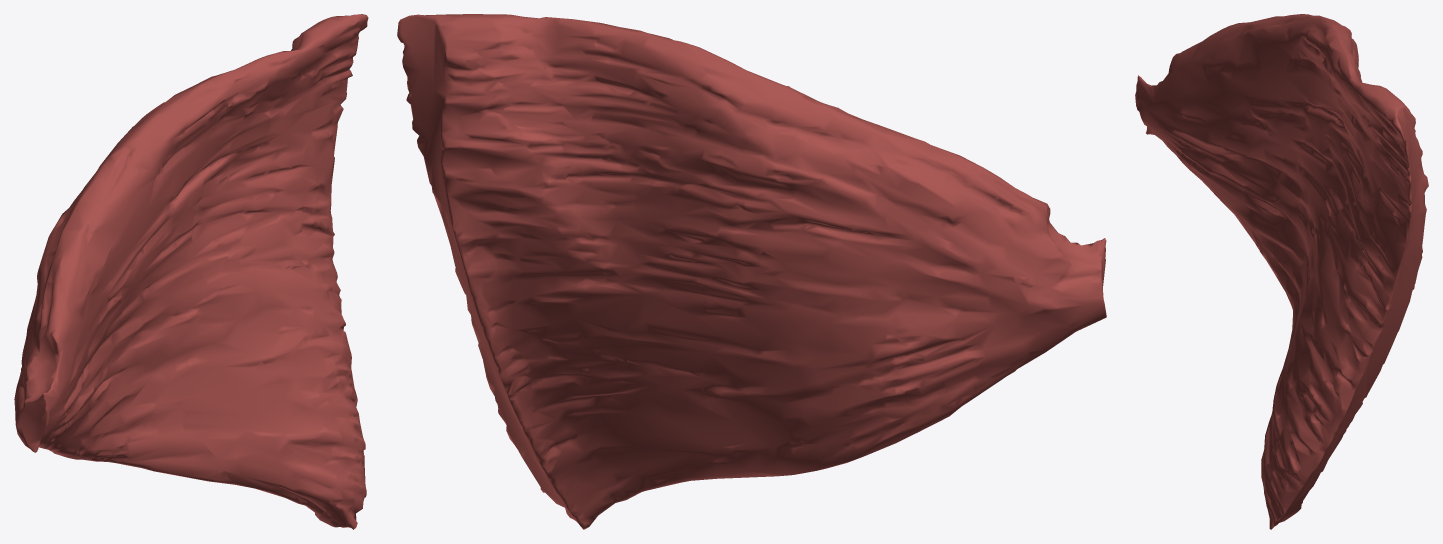
The model's file is FMA46123.glb.
3 views of the same model, side by side, from view 1: azimuth 30°, elevation 25°; view 2: azimuth 150°, elevation 25°; view 3: azimuth 270°, elevation 25° (orthographic). The views are drawn at different scales.
Visible parts, largest first — view 1: FMA46123; view 2: FMA46123; view 3: FMA46123.
Part boxes in pixels (x1,y1,x2,y2): FMA46123: (14, 14, 368, 529); FMA46123: (397, 14, 1106, 529); FMA46123: (1135, 14, 1428, 529).
Size of the model in its own units: 0.0414 by 0.0383 by 0.0227.
